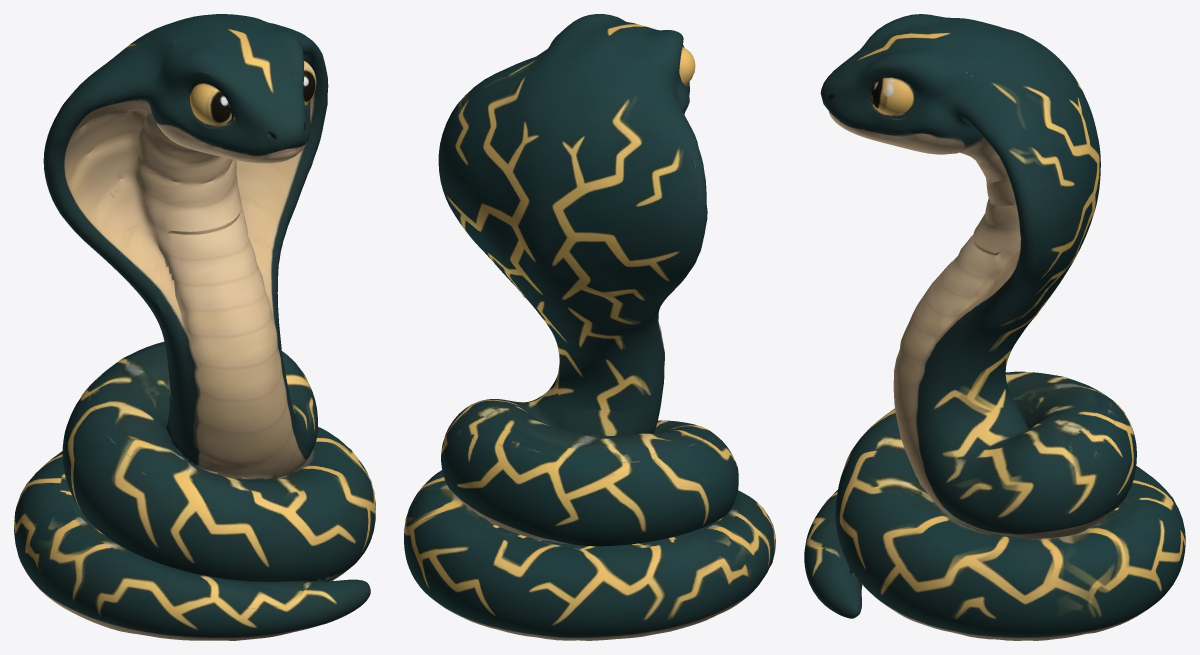
The model's file is fulgocobra.glb.
3 renders of one model, left to right at view 1: azimuth 30°, elevation 25°; view 2: azimuth 150°, elevation 25°; view 3: azimuth 270°, elevation 25°, orthographic. The views are drawn at different scales.
Visible parts, largest first — view 1: Mesh_0; view 2: Mesh_0; view 3: Mesh_0.
Boxes of the visible parts, x1,y1,x2,y2 form: Mesh_0: (14, 14, 375, 640); Mesh_0: (404, 14, 775, 640); Mesh_0: (804, 14, 1185, 640).
Bounding box in the file's own units: 1.19 × 1.9 × 1.21.
1 material, 1 textured.
